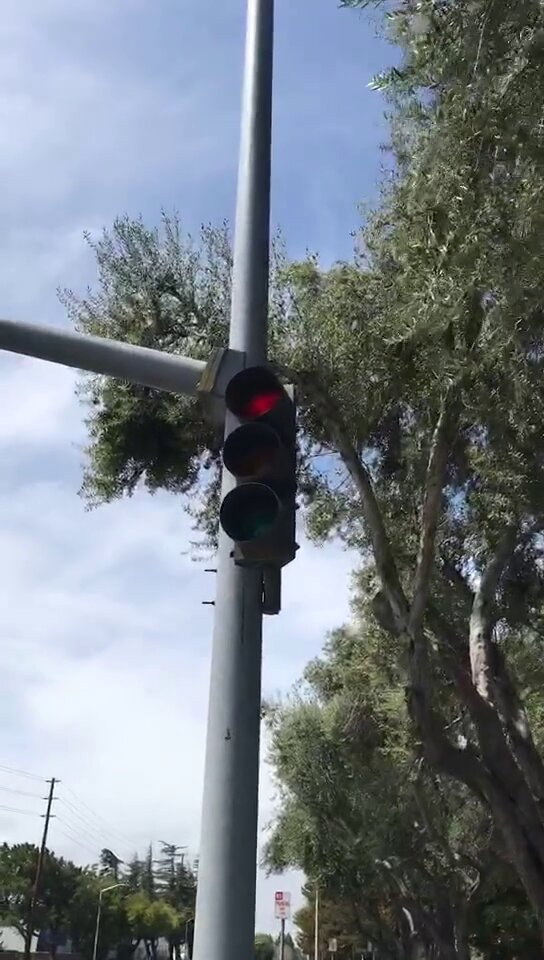red_light: (227, 366, 283, 549)
